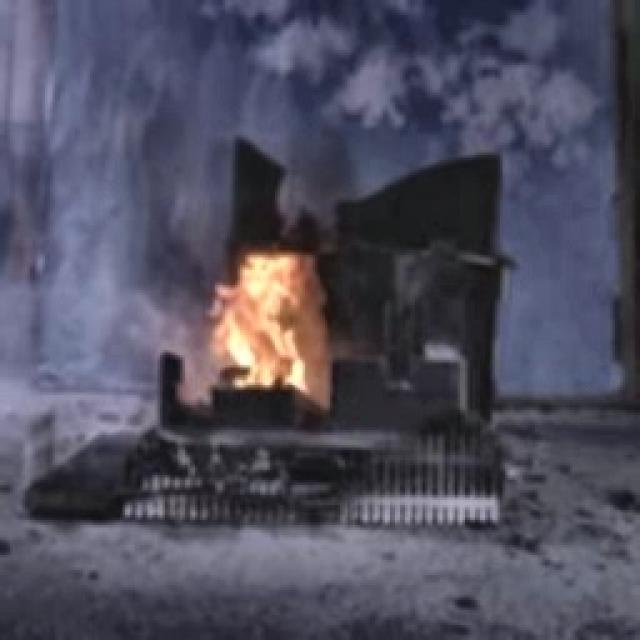fire: (196, 219, 342, 416)
